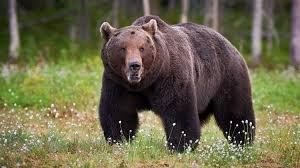bear: (98, 15, 256, 155)
